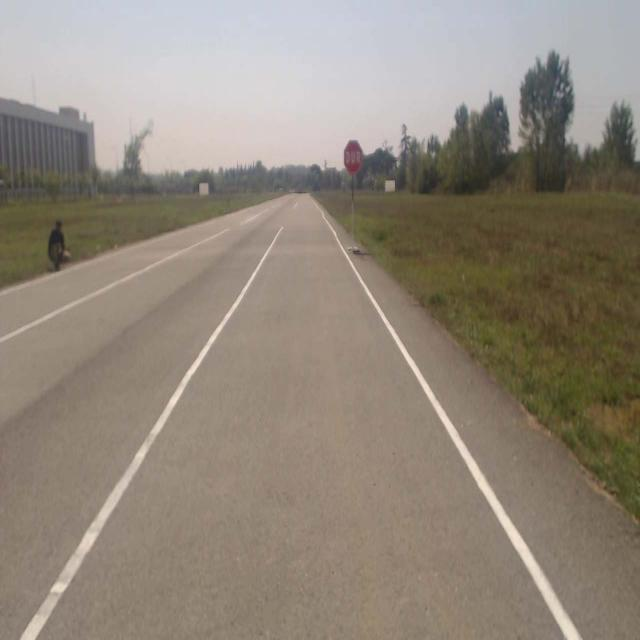dur: (344, 140, 362, 174)
